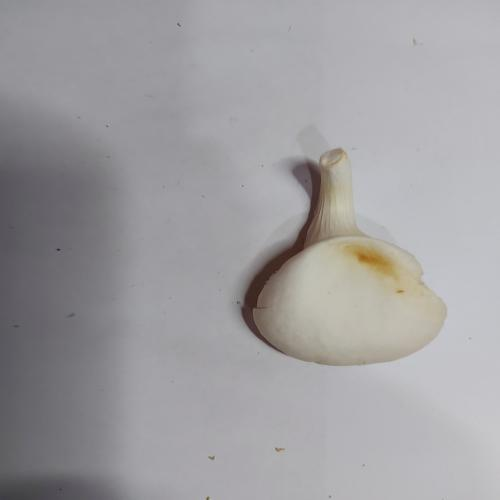Oyster Mushroom: (251, 147, 448, 366)
